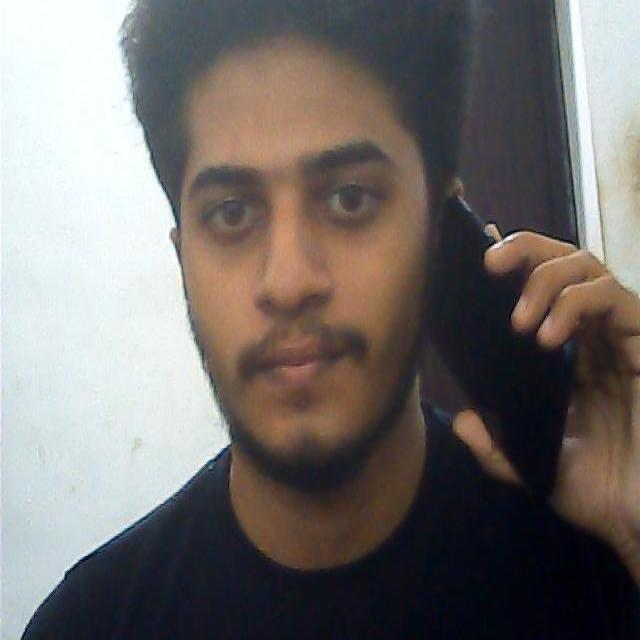phone: (432, 197, 572, 498)
